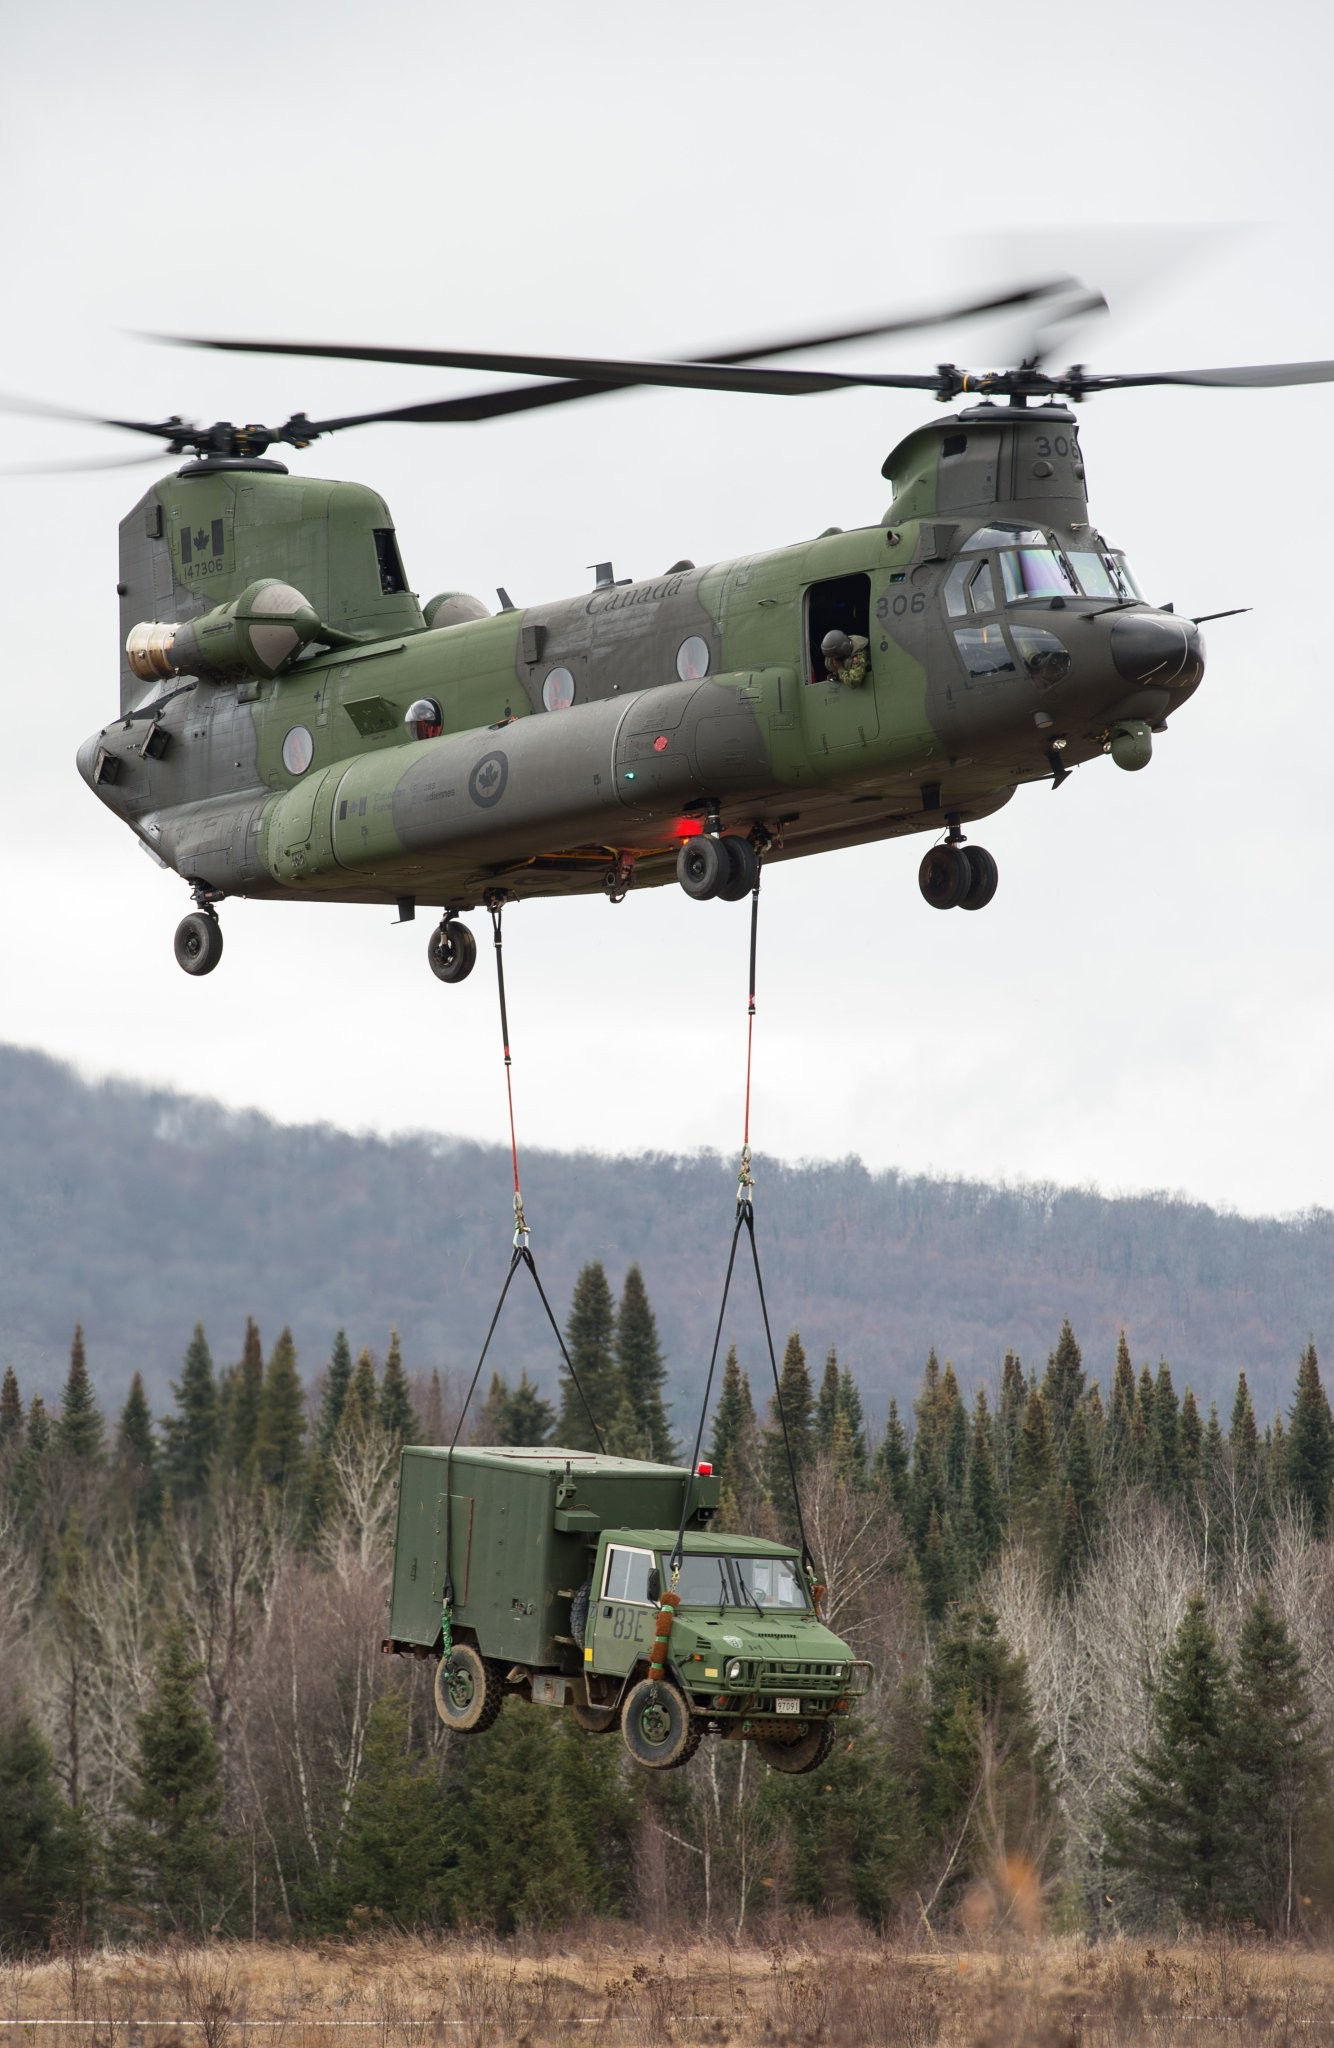chinook: (15, 293, 1309, 967)
